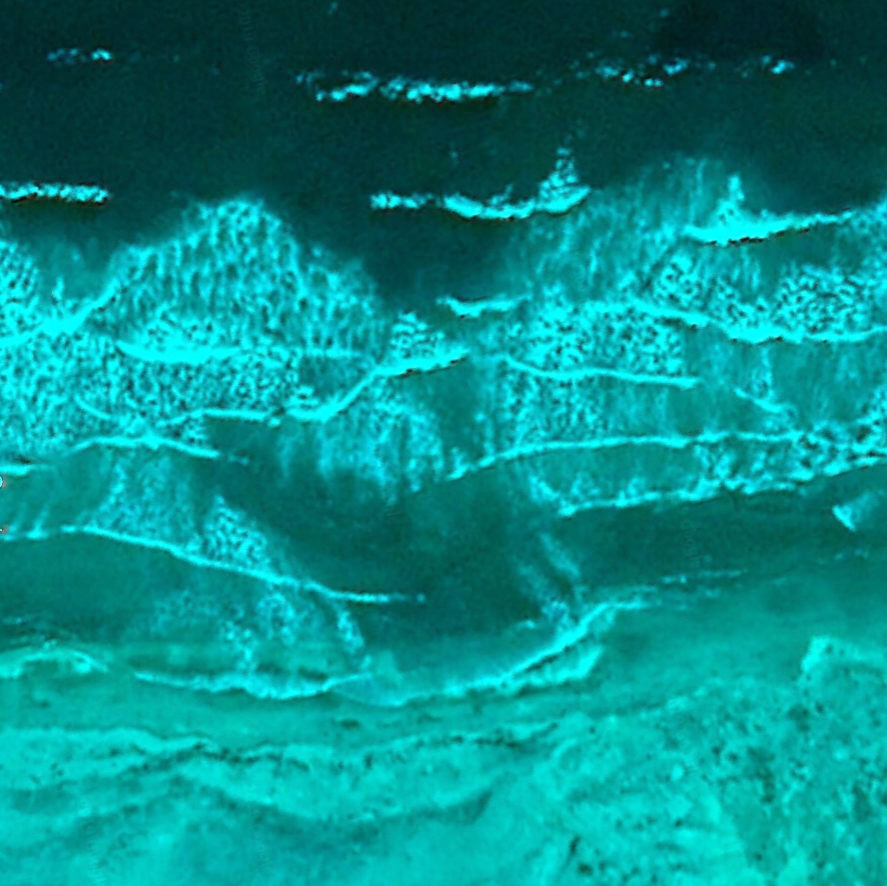rip_current: (272, 172, 577, 596)
